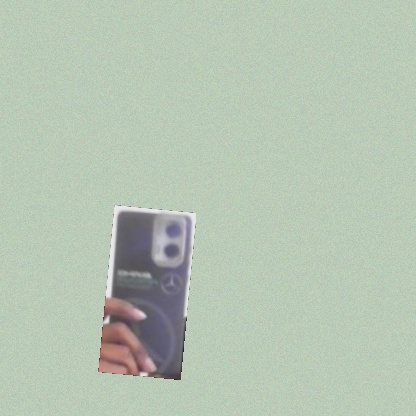cell_phone: (98, 205, 196, 380)
